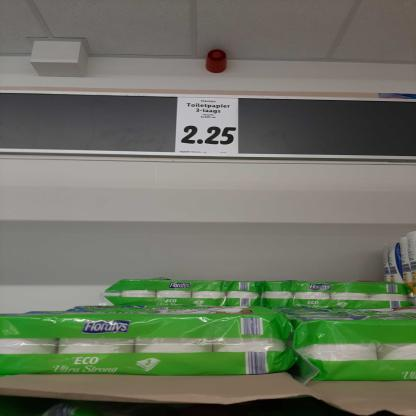prtg: (176, 98, 239, 154)
